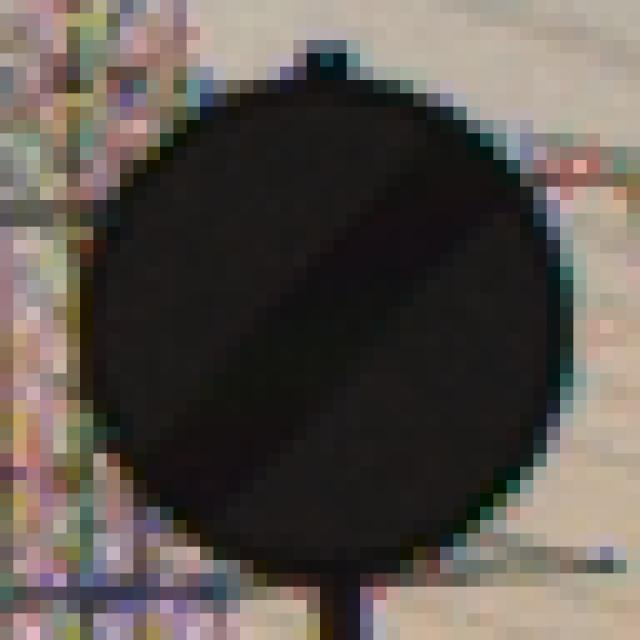restriction ends: (73, 59, 584, 580)
